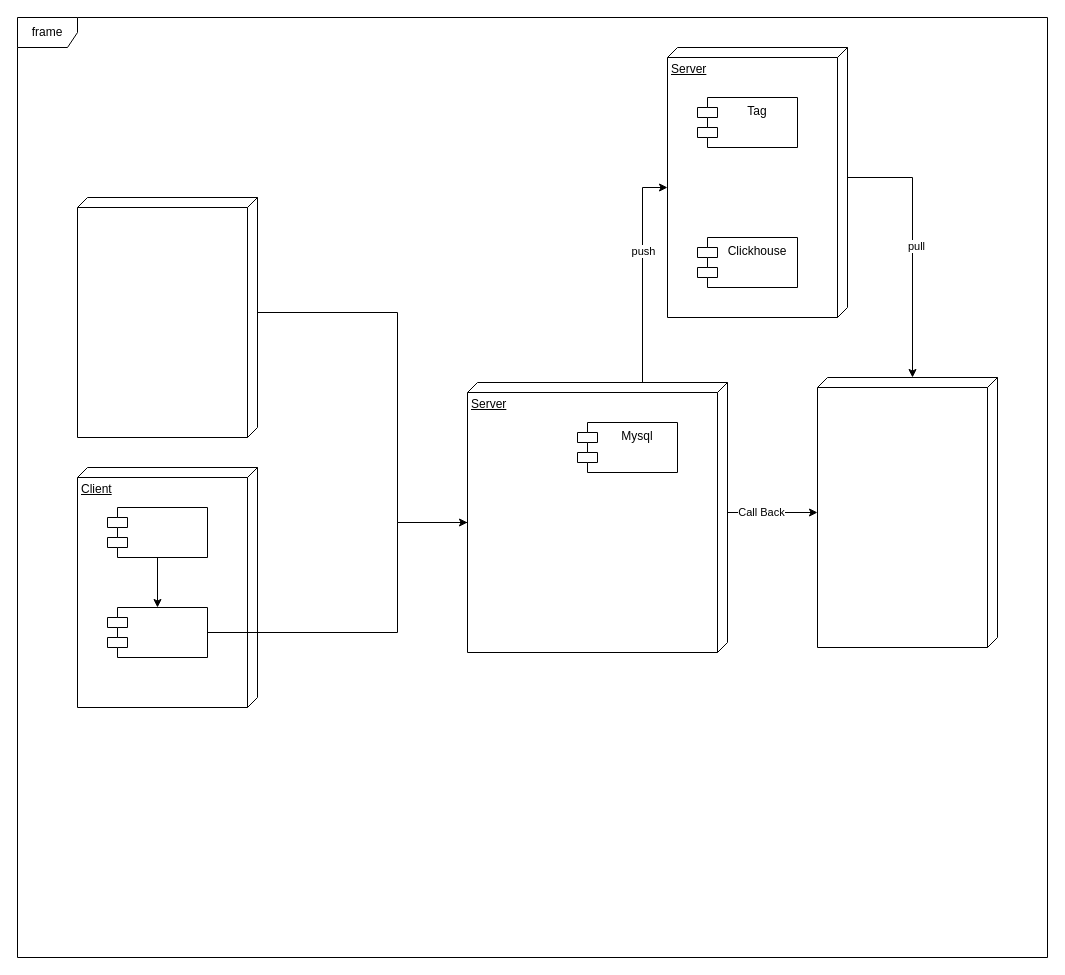
Image size: 1065x975. Some labels were removed from this diagram. Here are the shapes that lost their labels. From the top down, the centre of each, then its label:
At (167,317): "Web".
At (157,532): "MiMo".
At (907,512): "Recommond".
At (157,632): "Nest".
